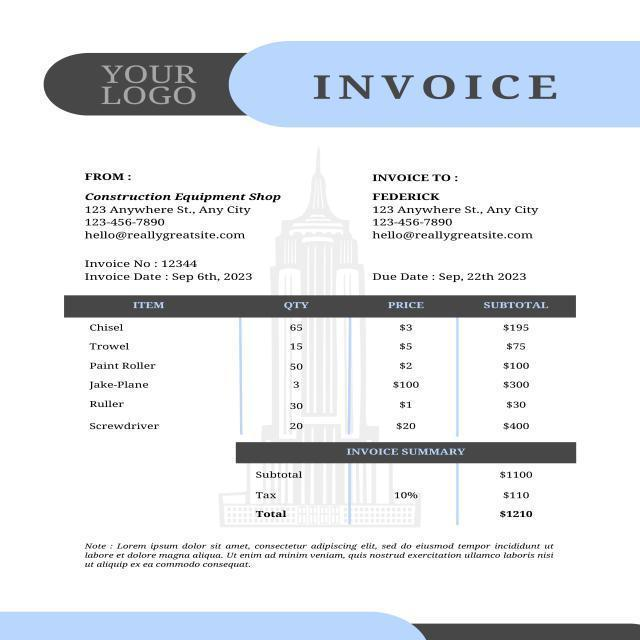ROI: (60, 293, 573, 433), (66, 157, 296, 289), (255, 443, 545, 528), (357, 169, 558, 287), (77, 537, 566, 580), (296, 70, 569, 109), (93, 57, 209, 108)
